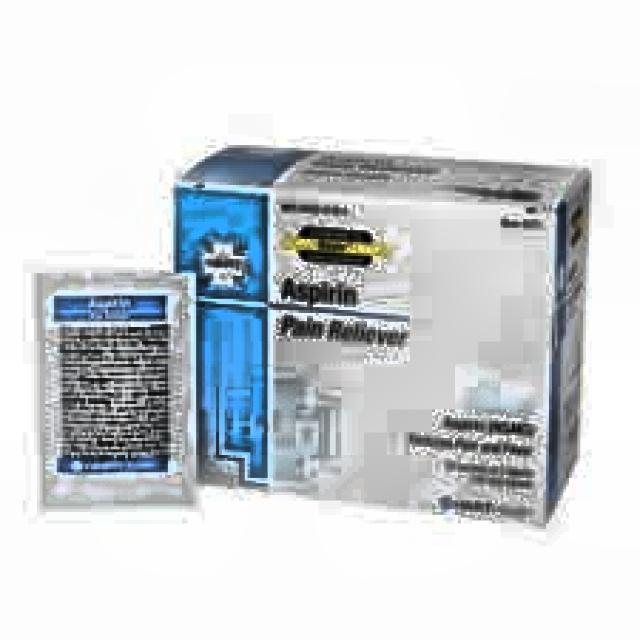Aspirin: (175, 188, 462, 447)
